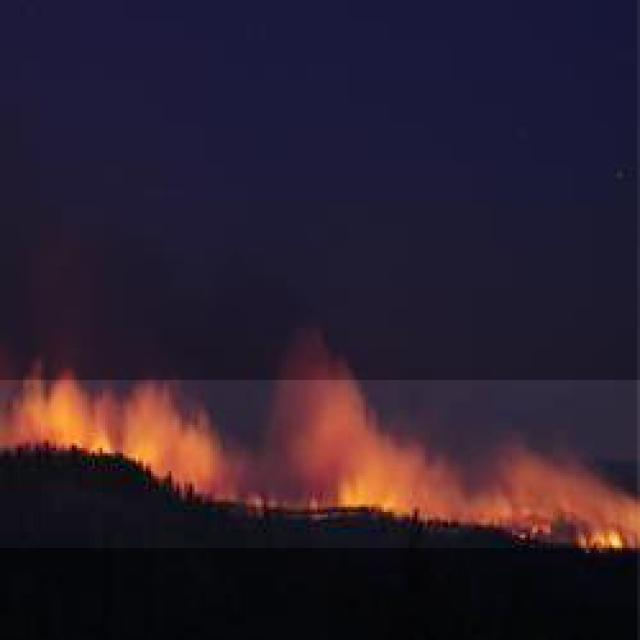Fire: (0, 380, 640, 548)
